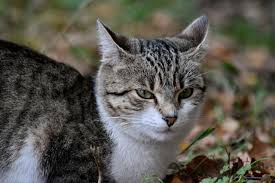Gato: (95, 15, 219, 140)
